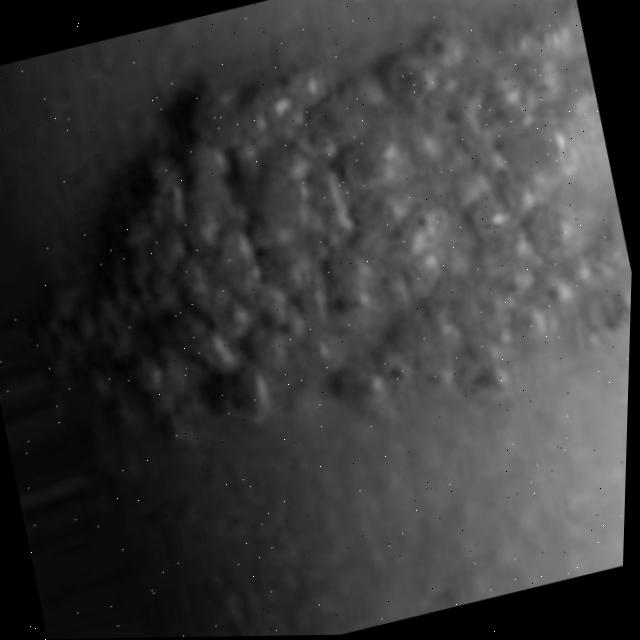Shingles: (22, 0, 639, 485)
